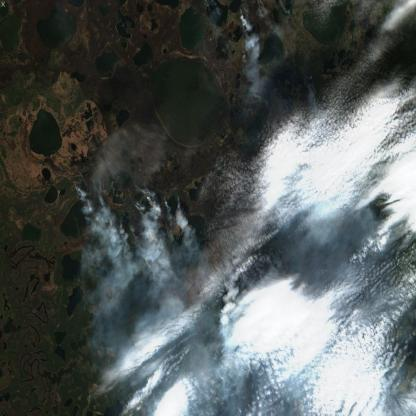fire: (130, 175, 180, 223), (63, 168, 106, 203), (232, 5, 251, 23)
